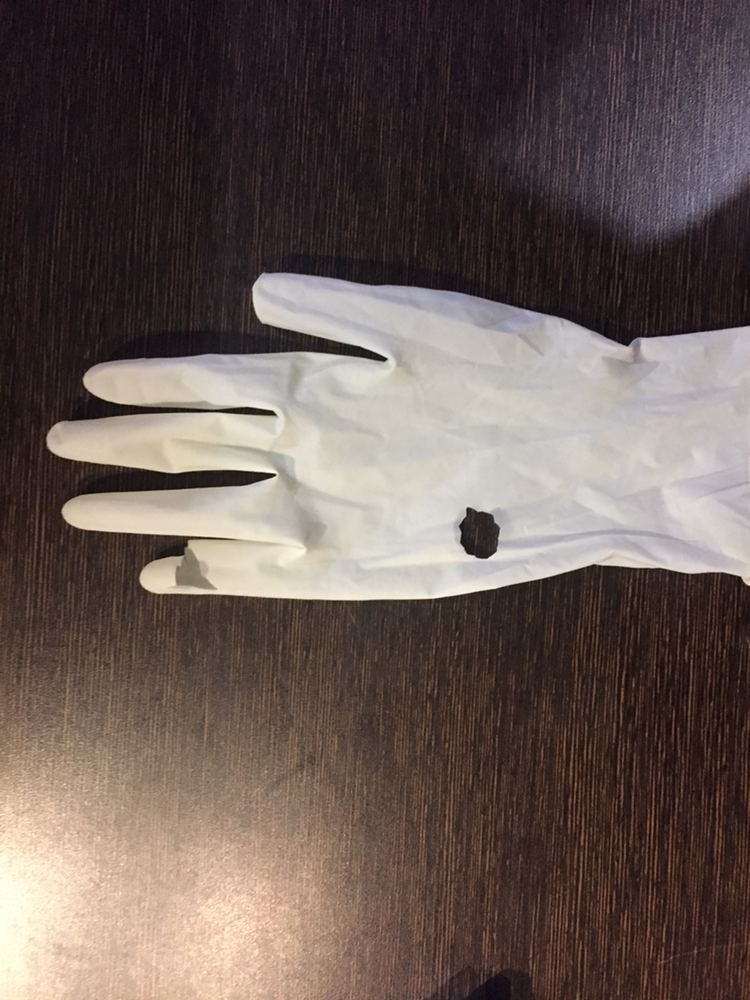defected: (1, 141, 727, 656)
